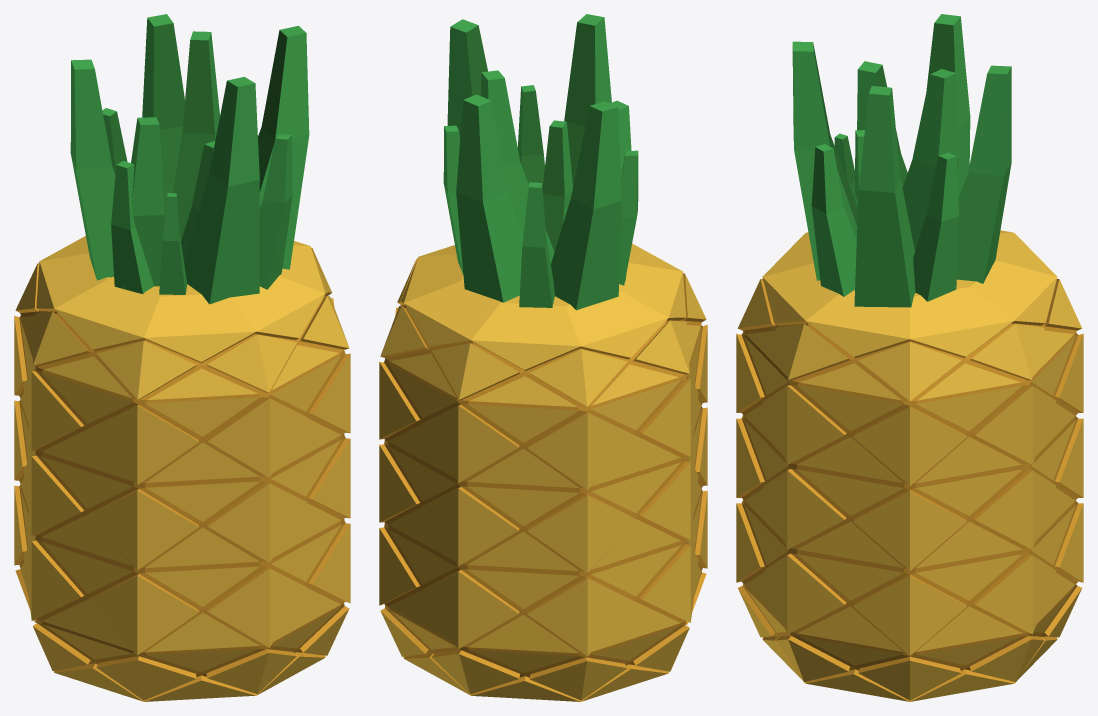
Rendered from PINEAPPLE.fbx.
3 renders of one model, left to right at view 1: azimuth 30°, elevation 25°; view 2: azimuth 150°, elevation 25°; view 3: azimuth 270°, elevation 25°, orthographic. The views are drawn at different scales.
Parts seen in each view (by area): view 1: Cylinder.005; view 2: Cylinder.005; view 3: Cylinder.005.
Part boxes in pixels (x1,y1,x2,y2): Cylinder.005: (14,14,350,701); Cylinder.005: (379,14,707,701); Cylinder.005: (736,14,1083,701).
Bounding box in the file's own units: 676 × 1282 × 676.
